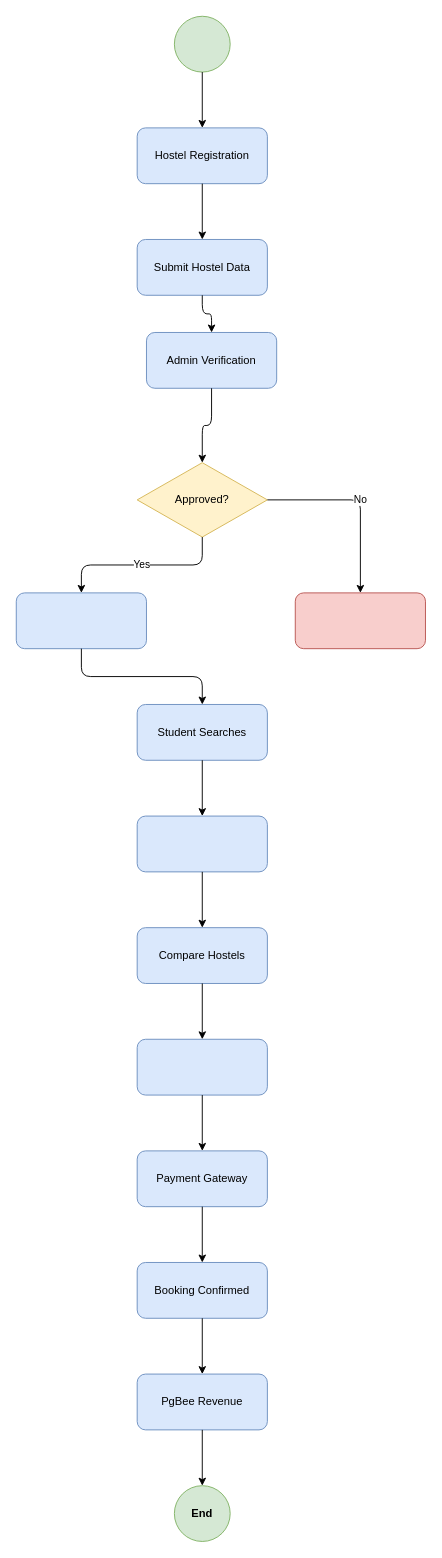
This 442x1558 diagram has some shape labels left out. Each missing label, with the centre of its shape:
"Book Hostel" belongs at point (201, 1066).
"Publish Hostel" belongs at point (80, 620).
"Reject" belongs at point (359, 620).
"Start" belongs at point (201, 43).
"View Hostel Info" belongs at point (201, 843).
